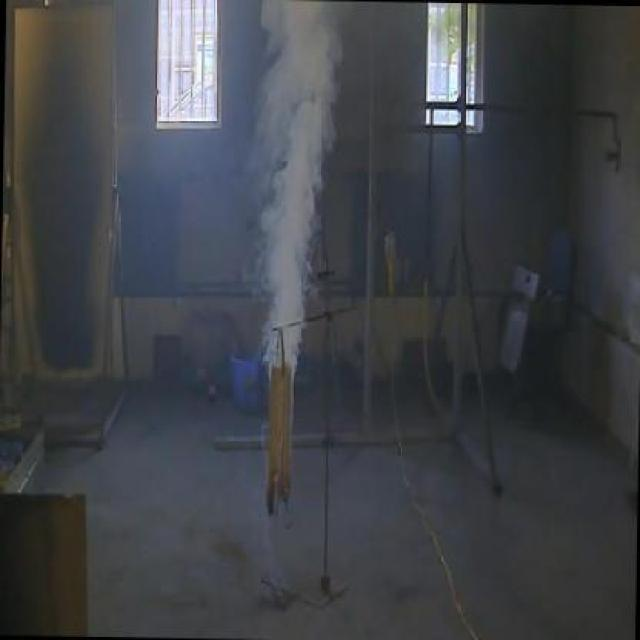fire: (235, 0, 354, 323)
